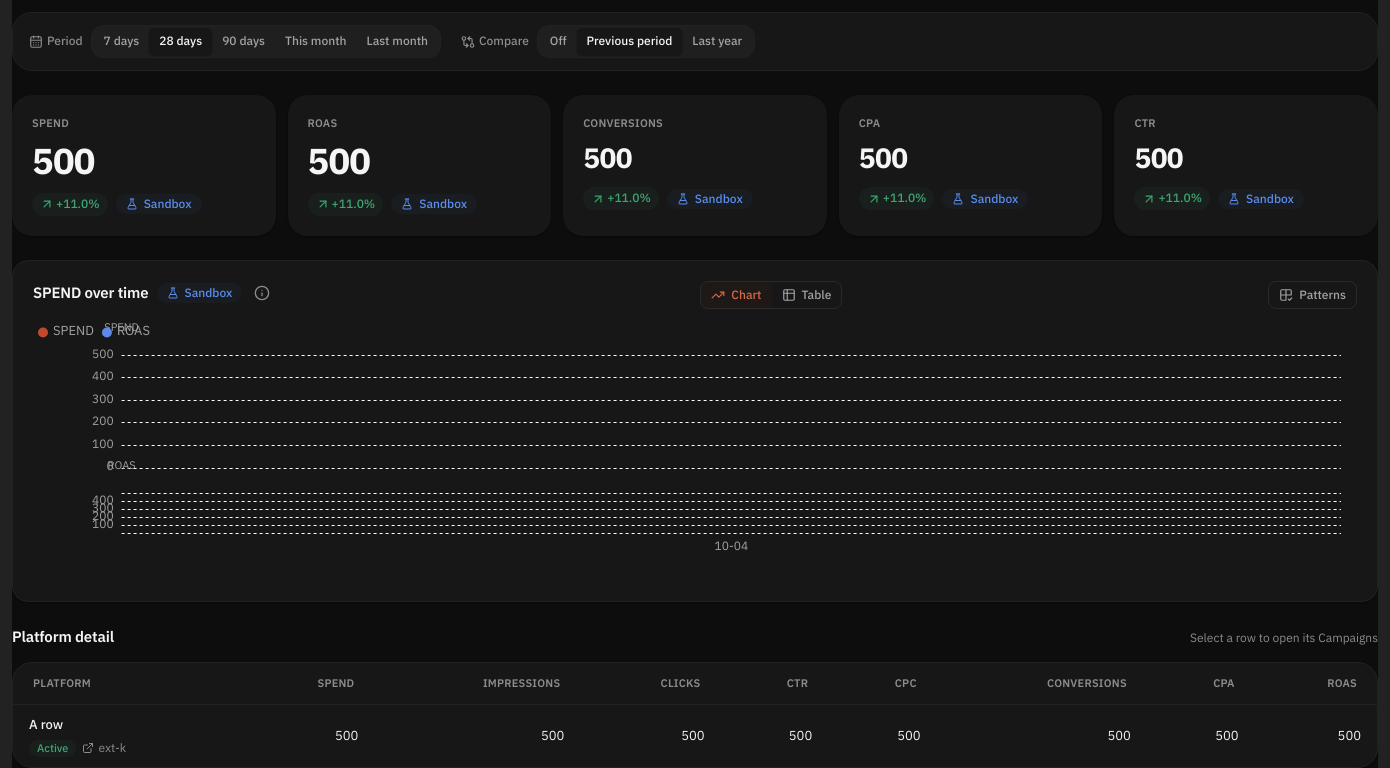
Test case: CampaignsPage › stops offering a drill-down once it reaches an ad
(page scrolled)
expect the text "Select a row to open its Campaigns" is shown: met, box [1190,629,1378,648]
Click the text "A row".
click(46, 724)  # box [29,715,63,734]
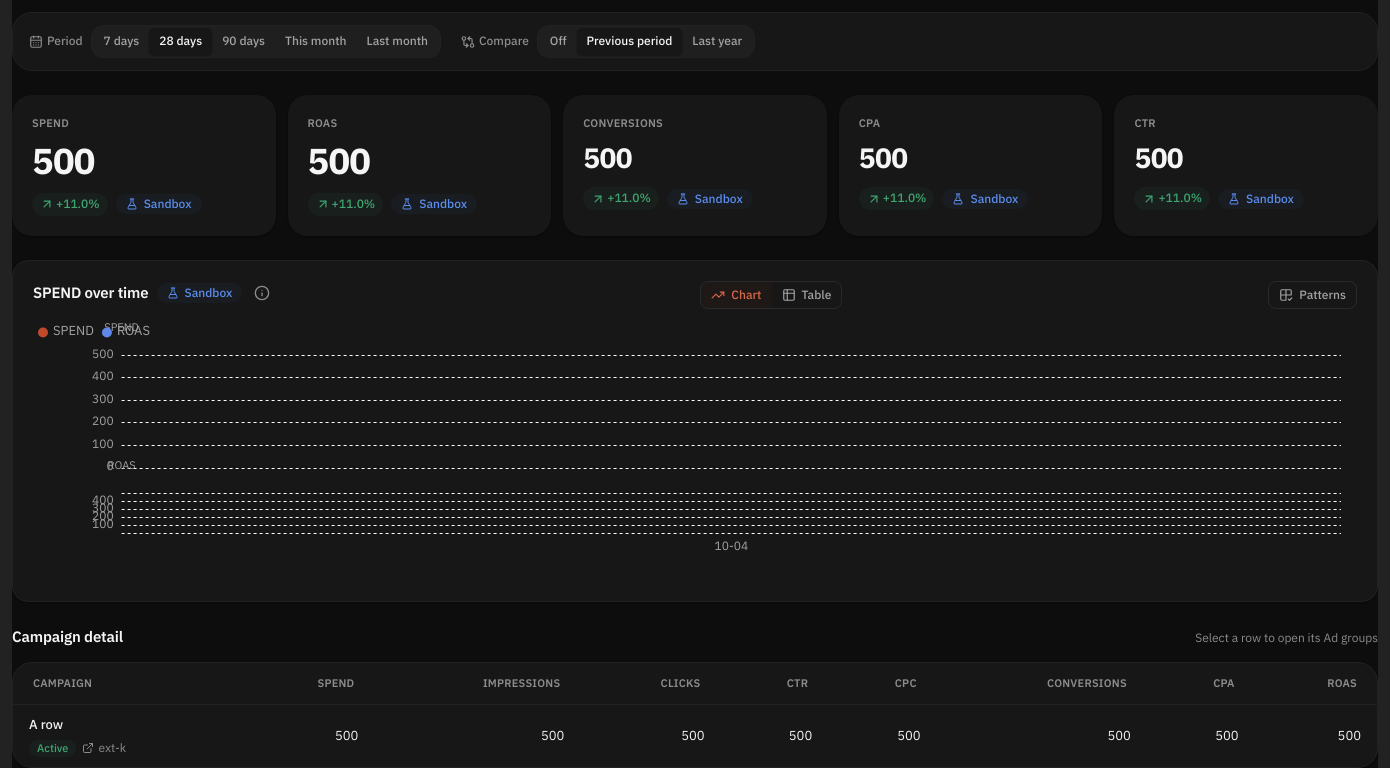
expect the text "Select a row to open its Ad groups" is shown: met, box [1195,629,1378,648]
Click the text "A row".
click(46, 724)  # box [29,715,63,734]
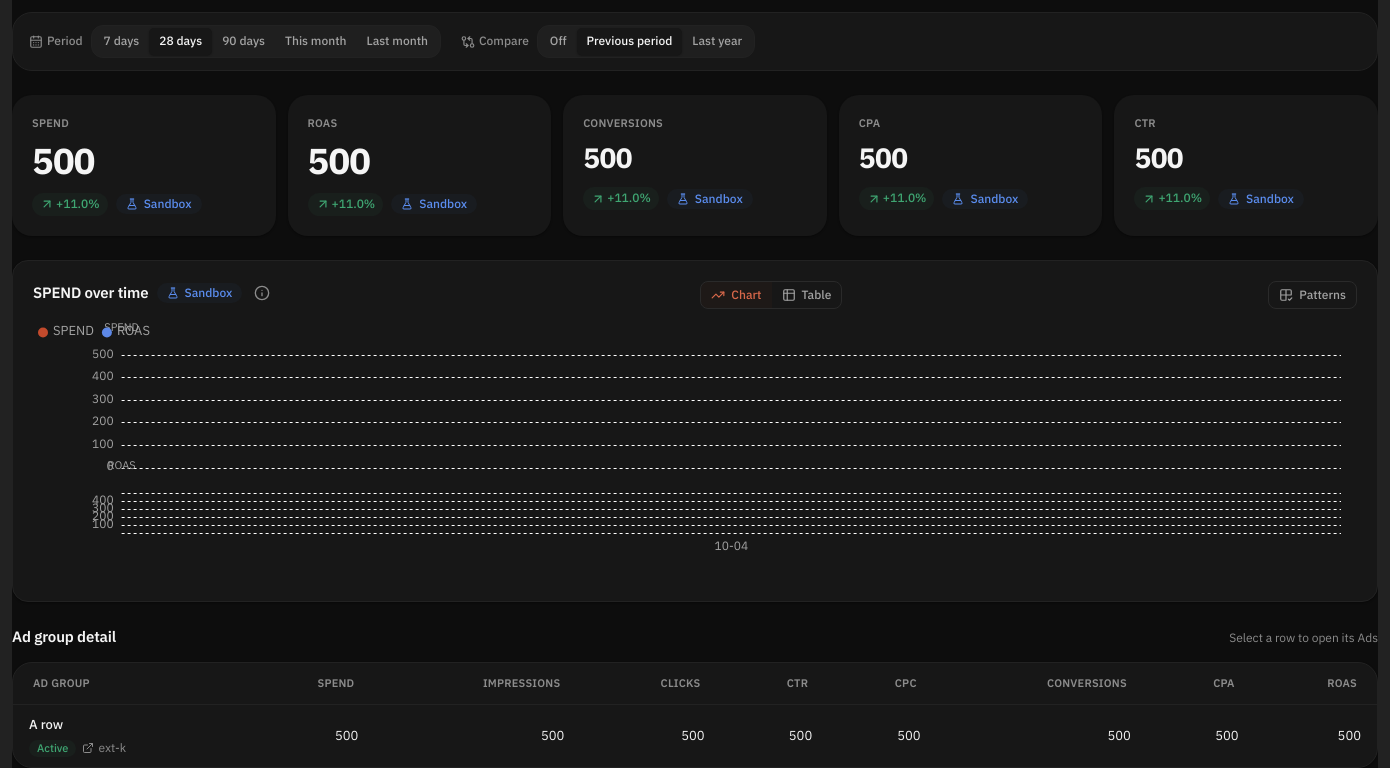
expect the text "Select a row to open its Ads" is shown: met, box [1229,629,1378,648]
Click the text "A row".
click(46, 724)  # box [29,715,63,734]
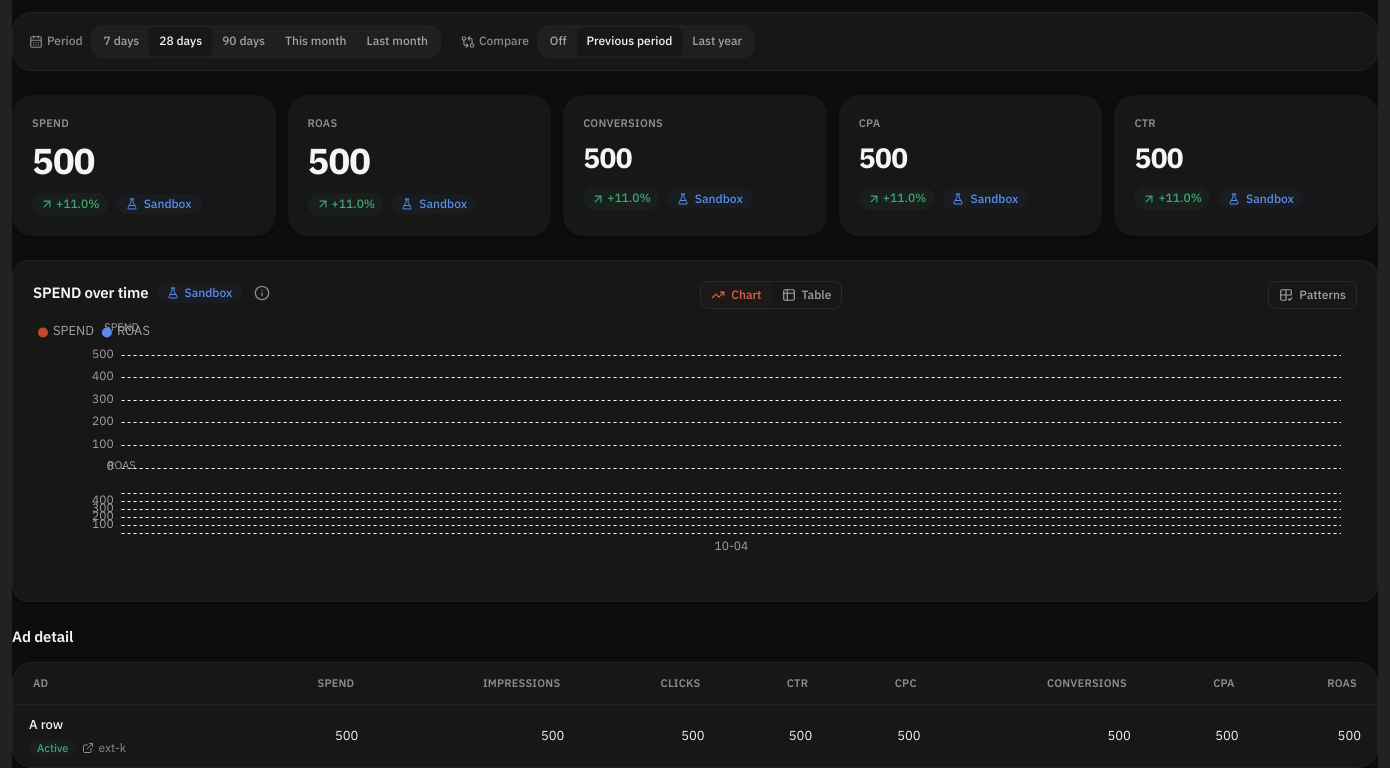
expect the text "Select a row to open" is gone: met
